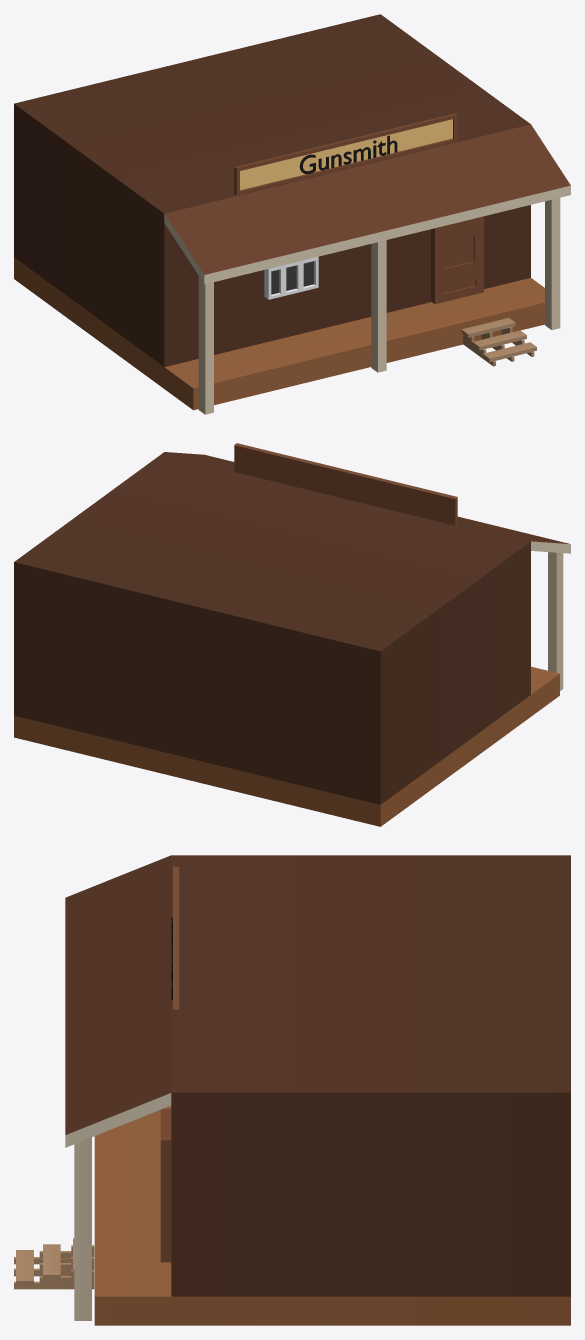
The model's file is Wild West Gunsmith.fbx.
3 views of the same model, one above another, from view 1: azimuth 30°, elevation 25°; view 2: azimuth 150°, elevation 25°; view 3: azimuth 270°, elevation 25° (orthographic). The views are drawn at different scales.
Parts seen in each view (by area): view 1: Cube, Object; view 2: Cube; view 3: Cube.
Boxes of the visible parts, box(x1,y1,x2,y2) form: Cube: box(14, 14, 570, 414); Object: box(299, 135, 397, 174); Cube: box(14, 443, 570, 826); Cube: box(14, 855, 570, 1325).
Size of the model in its own units: 113 by 59.72 by 112.
Materials: 1 (1 with a texture image).
